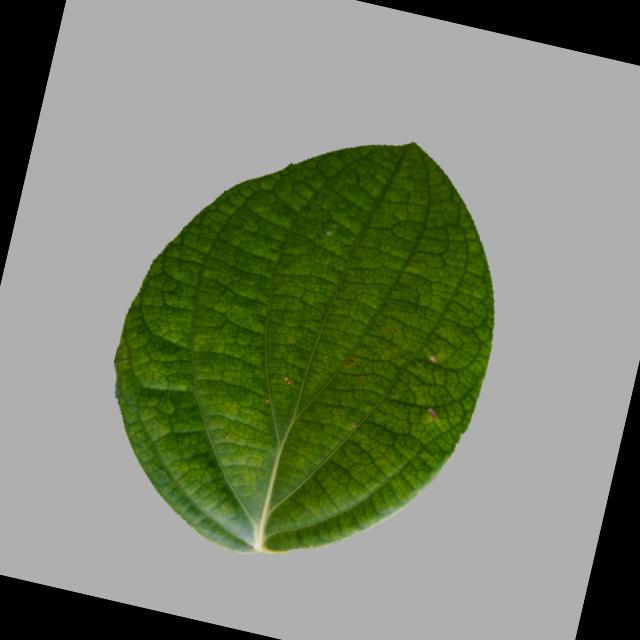healthy: (76, 77, 546, 606)
